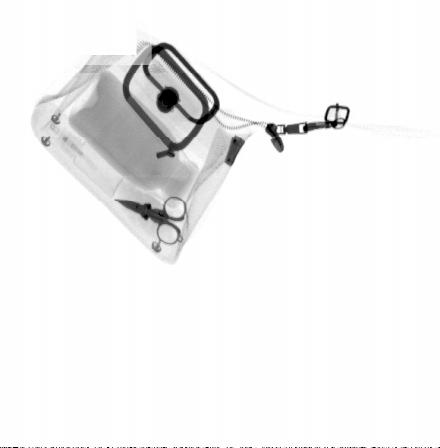Scissors: (114, 195, 188, 246)
